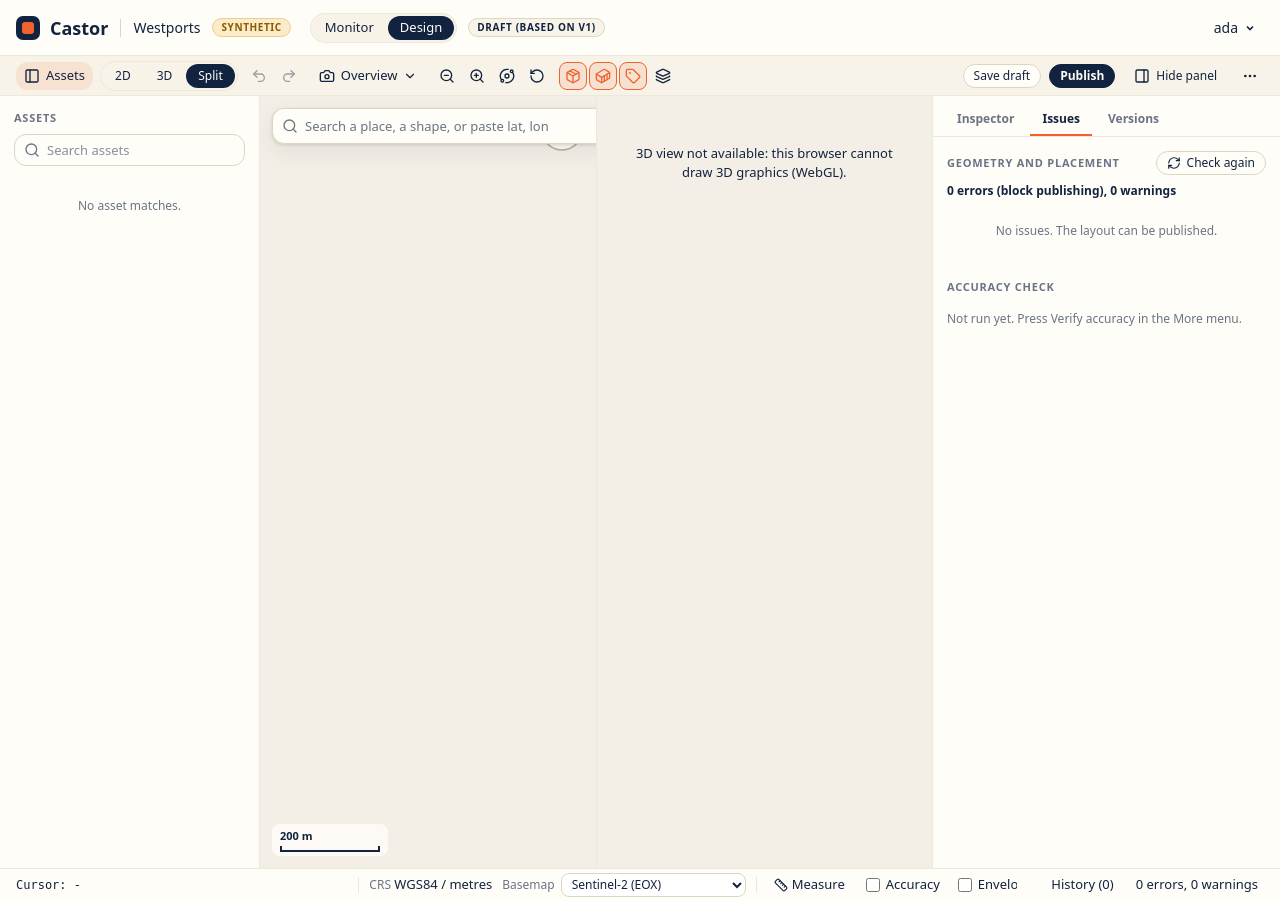
Test case: app shell › counts errors and warnings in a red pill on the Issues tab, and hides it at zero
Expected: the text "No issues. The layout can be published." is shown, [996,222,1217,239]
Expected: the tab "Issues" is shown, [1030,104,1092,136]
Click the button "Check again" at [1211, 163], box [1156,151,1266,175]
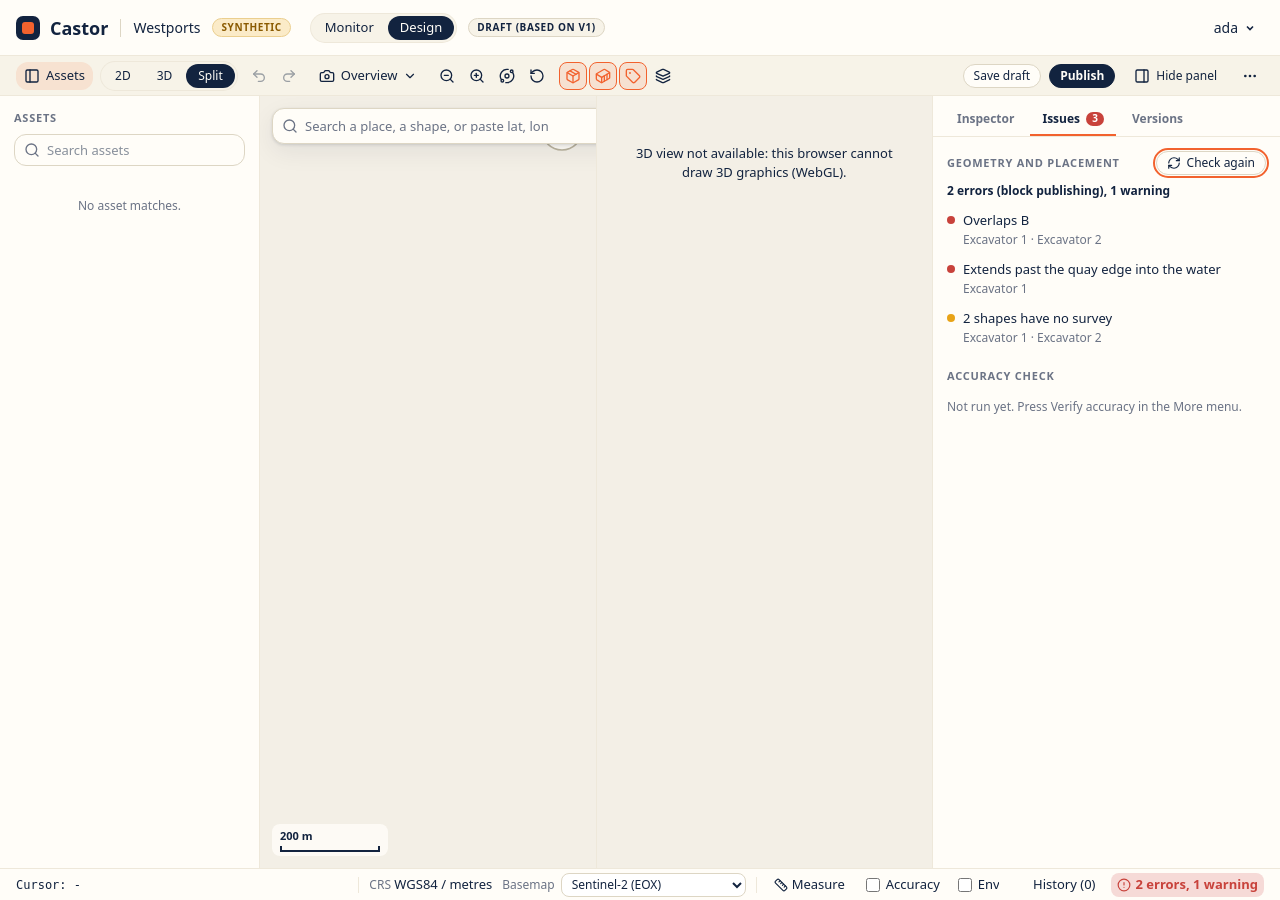
Expected: the tab "Issues 3" is shown, [1030,104,1116,136]
Expected: the text "2 errors (block publishing), 1 warning" is shown, [947,182,1170,199]
